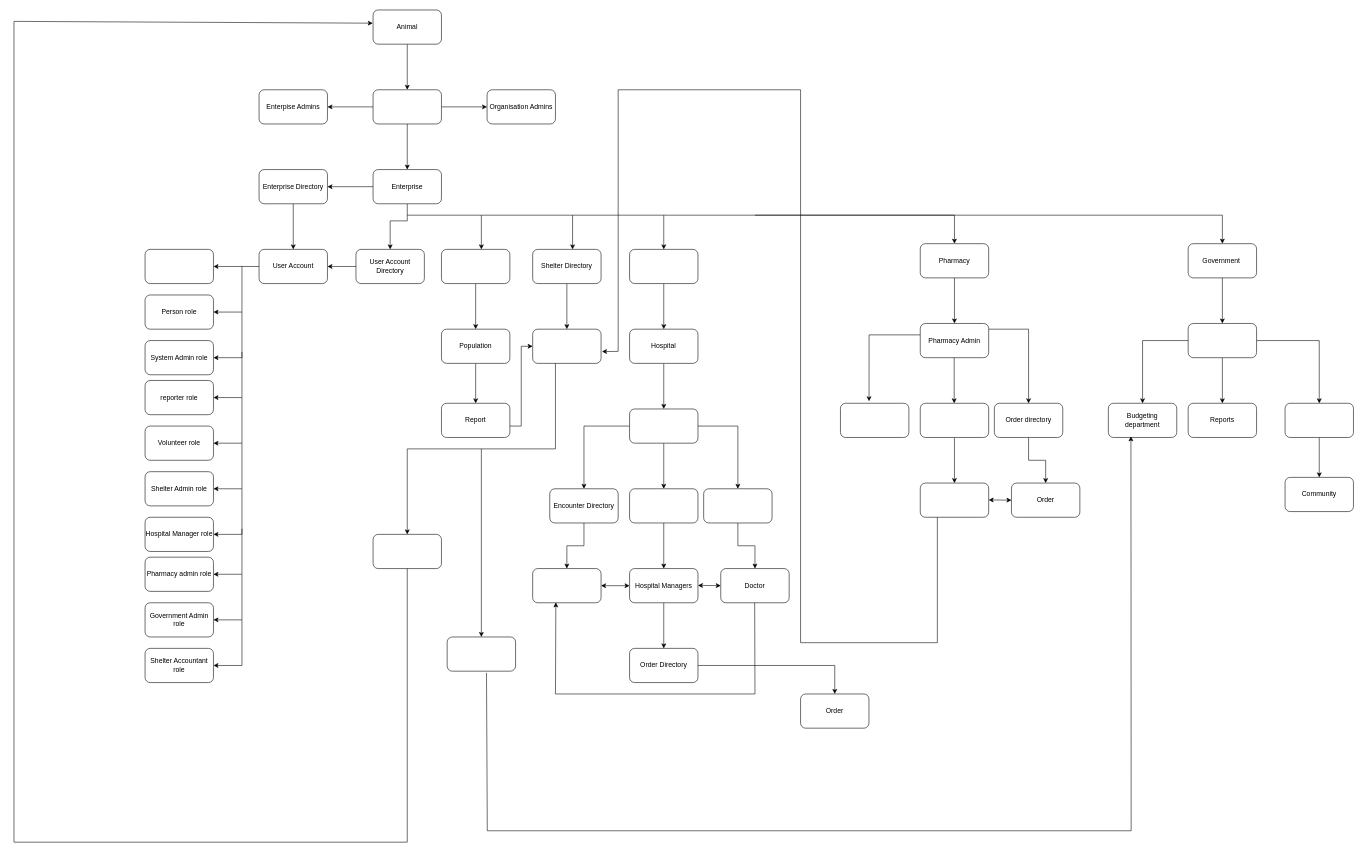
The diagram is 1363 pixels wide and 857 high, and some of its shapes have lost their labels. The shapes that lost their labels are listed below. From the top down, each one's box as (x1, y1, x2, y2) in pixels, then its label:
(372, 89, 441, 124): Ecosystem
(144, 249, 213, 284): Doctor Role
(441, 249, 510, 284): Population Directory
(629, 249, 698, 284): Hospital Directory
(532, 329, 601, 363): Shelter
(1188, 323, 1257, 358): Government Admin
(629, 408, 698, 443): Hospital Admin
(840, 403, 909, 437): Inventory
(920, 403, 989, 437): Deliver man Directory
(1284, 403, 1353, 437): City
(629, 488, 698, 523): Hospital Managers Directory
(703, 488, 772, 523): Doctor Directory
(920, 483, 989, 517): Delivery man
(372, 534, 441, 569): Volunteer
(532, 568, 601, 603): Encounter
(447, 636, 516, 671): Accounting Department
